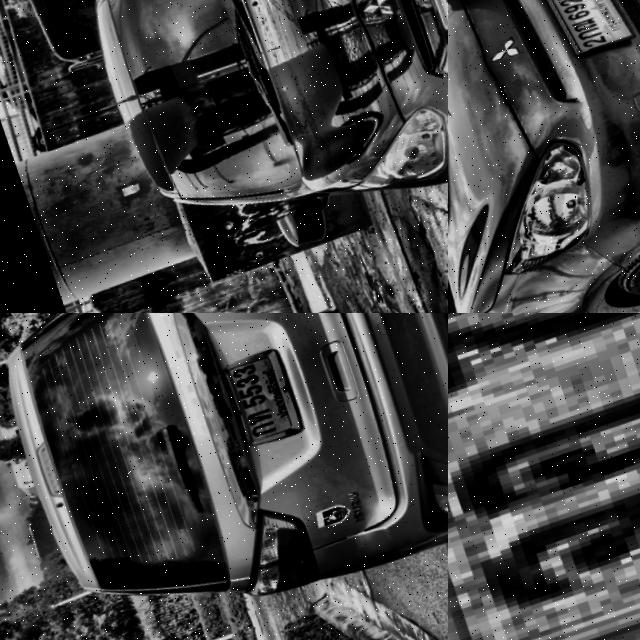license-plate: (448, 313, 640, 640), (210, 351, 299, 457), (537, 0, 634, 70)
